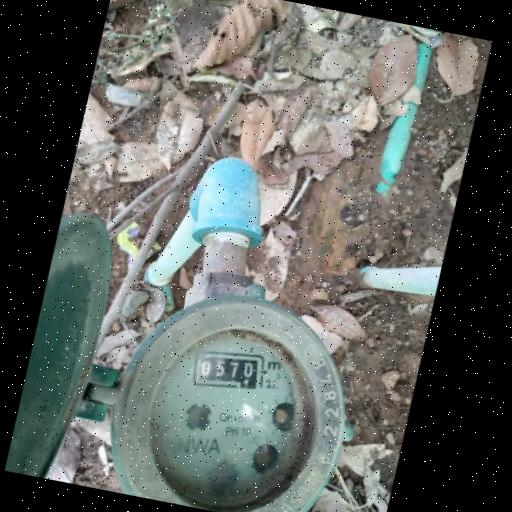0: (235, 358, 261, 391), (197, 355, 219, 383)
5: (211, 357, 231, 382)
7: (222, 357, 244, 383)
border_water_meter_number: (188, 343, 270, 398)
